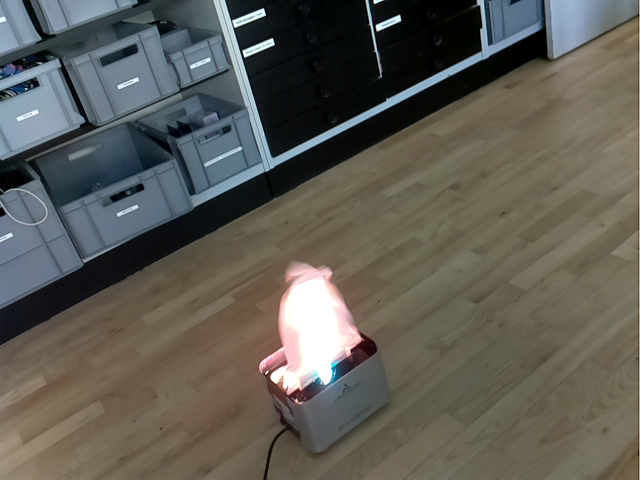fire: (278, 261, 362, 396)
